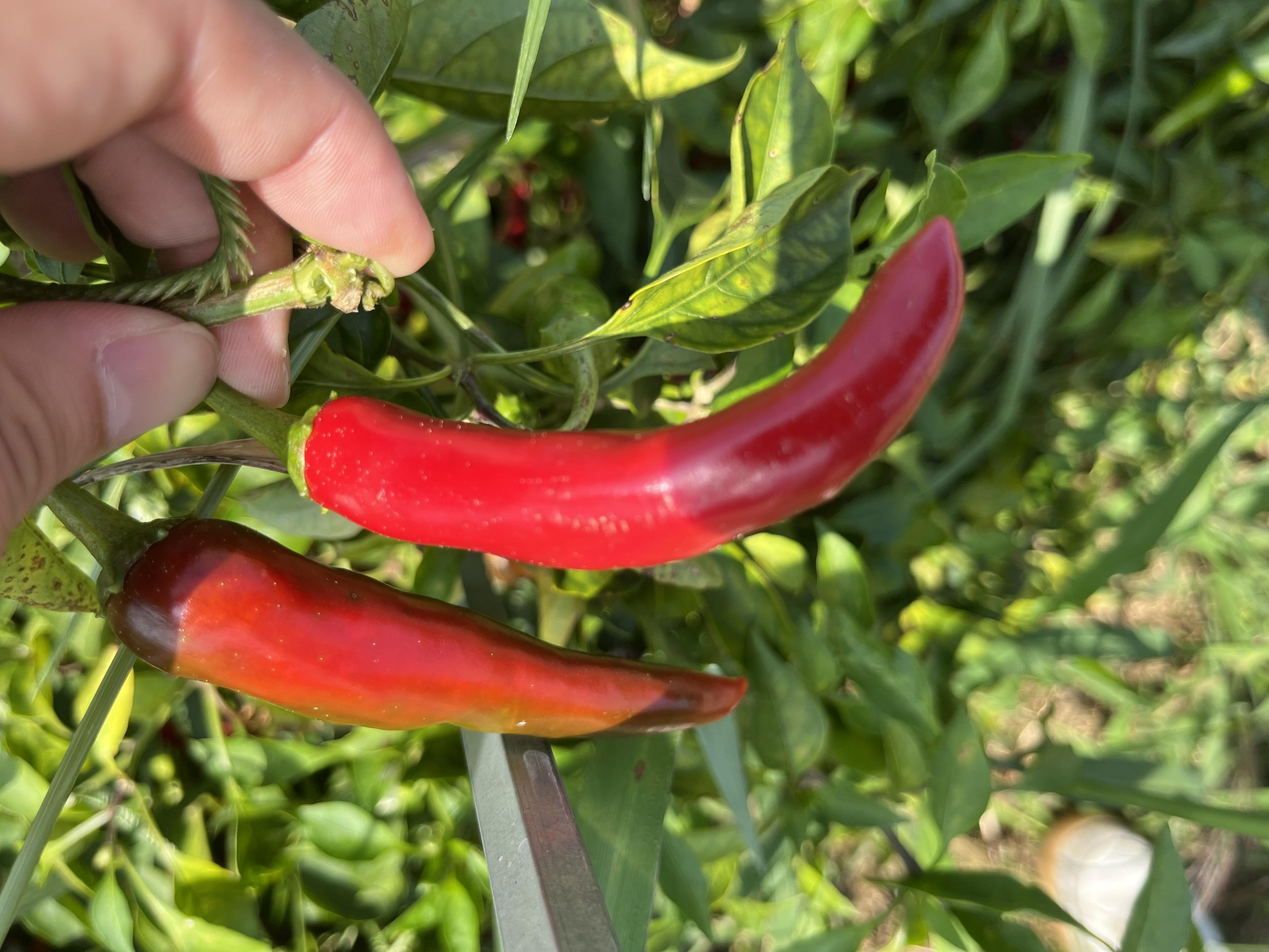Buah Cabai Sehat: (501, 206, 978, 731), (270, 99, 609, 579)
